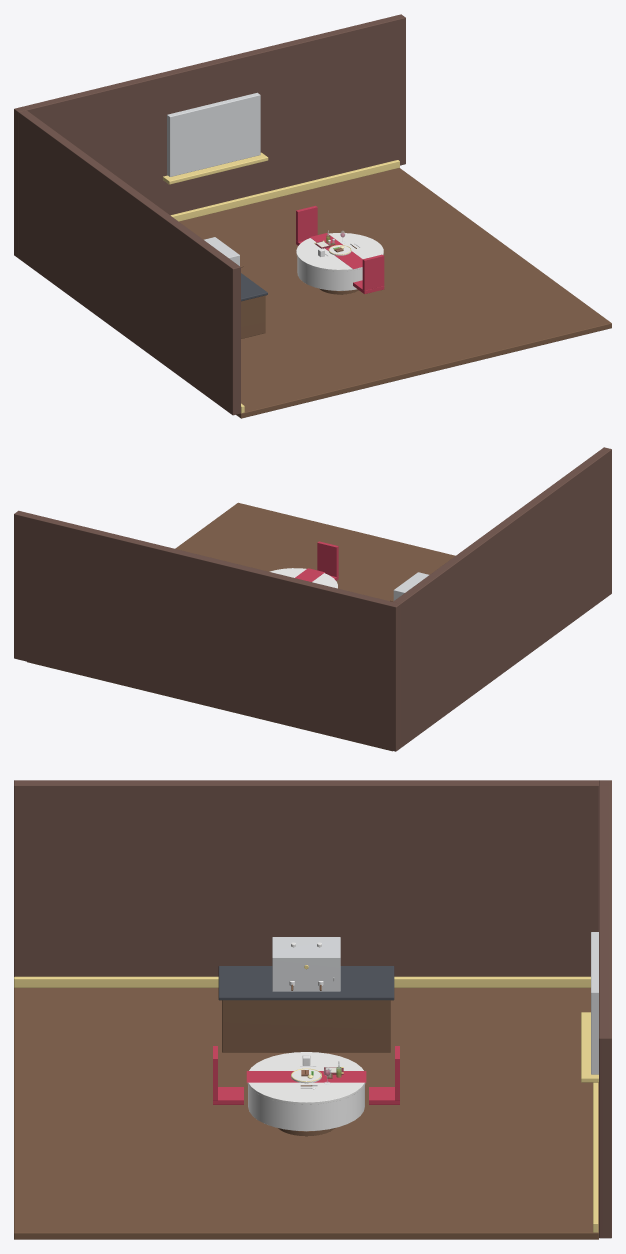
The model's file is restaurant.glb.
3 views of the same model, one above another, from view 1: azimuth 30°, elevation 25°; view 2: azimuth 150°, elevation 25°; view 3: azimuth 270°, elevation 25° (orthographic). The views are drawn at different scales.
Parts seen in each view (by area): view 1: Restaurant_Diorama, Dining_Table, Bar_Credenza; view 2: Restaurant_Diorama, Dining_Table; view 3: Restaurant_Diorama, Bar_Credenza, Dining_Table, Espresso_Machine.
Part boxes in pixels (left/top/right/bottom): Restaurant_Diorama: left=14, top=14, right=611, bottom=418; Dining_Table: left=296, top=205, right=384, bottom=294; Bar_Credenza: left=241, top=273, right=267, bottom=338; Restaurant_Diorama: left=14, top=447, right=611, bottom=751; Dining_Table: left=269, top=541, right=338, bottom=588; Restaurant_Diorama: left=14, top=780, right=611, bottom=1239; Bar_Credenza: left=218, top=966, right=394, bottom=1052; Dining_Table: left=213, top=1046, right=399, bottom=1136; Espresso_Machine: left=272, top=937, right=340, bottom=991.
Size of the model in its own units: 9.4 by 3.52 by 9.2.
